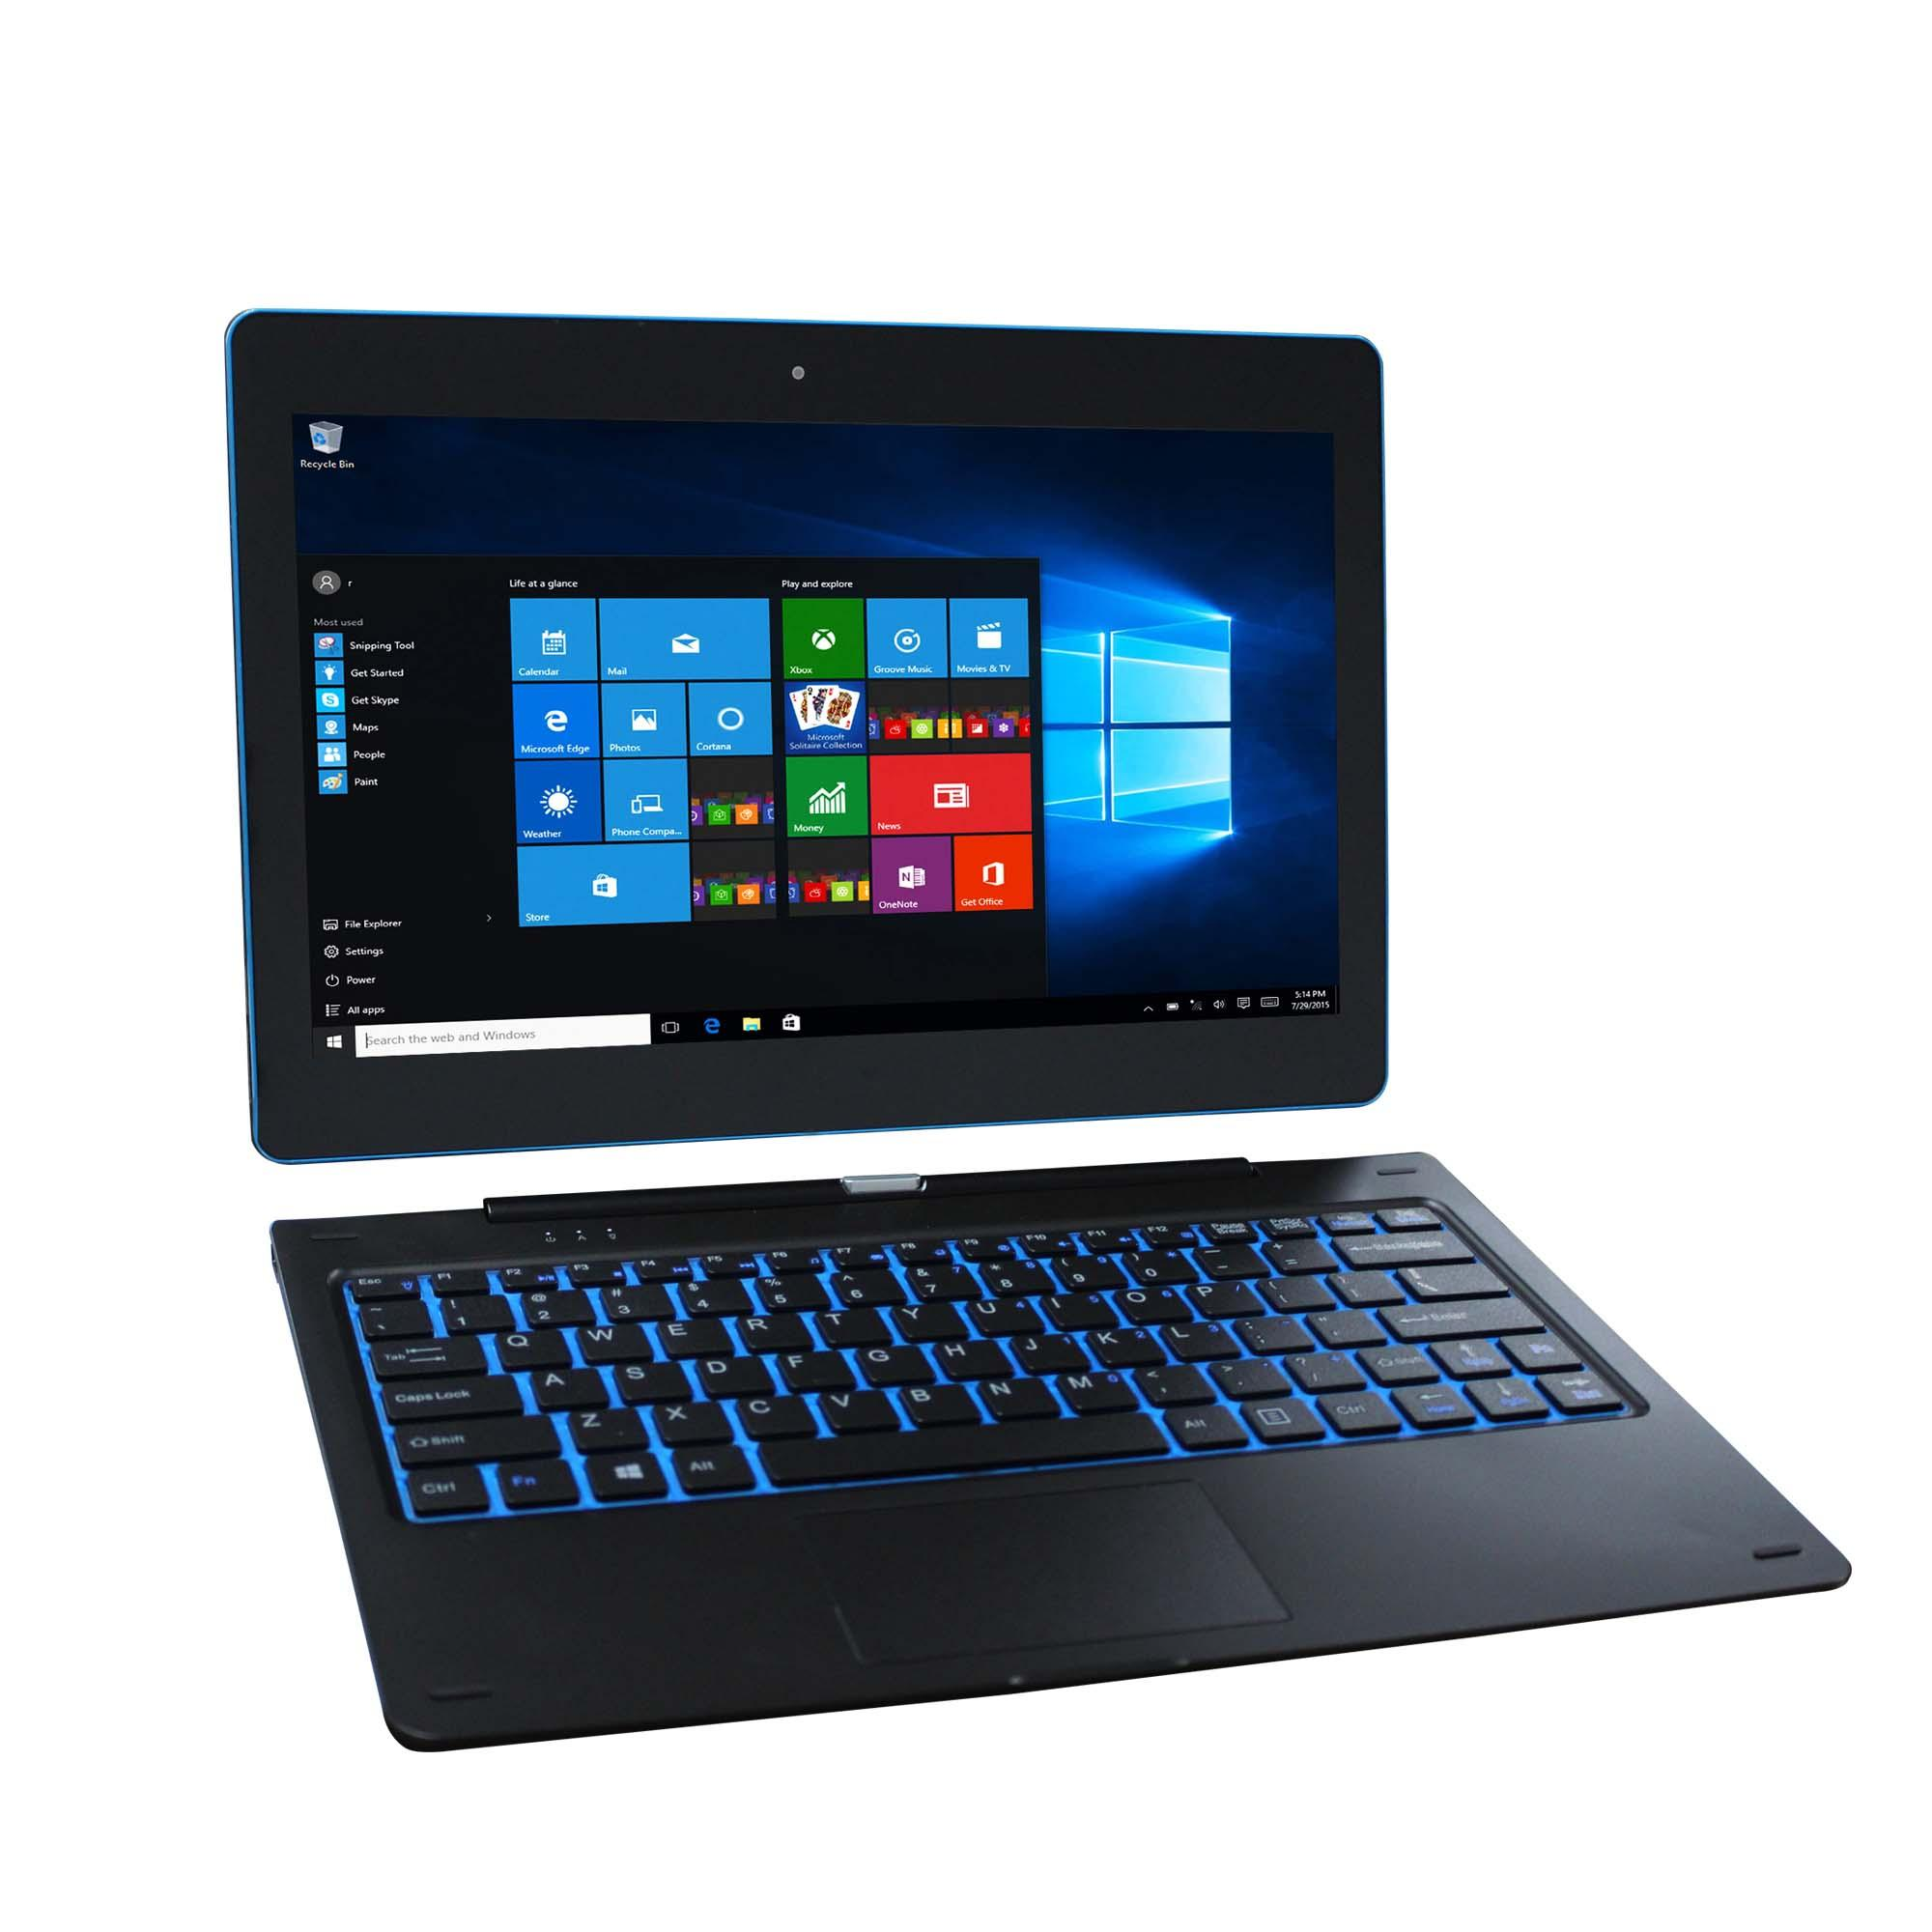Laptop: (188, 301, 1863, 1769)
